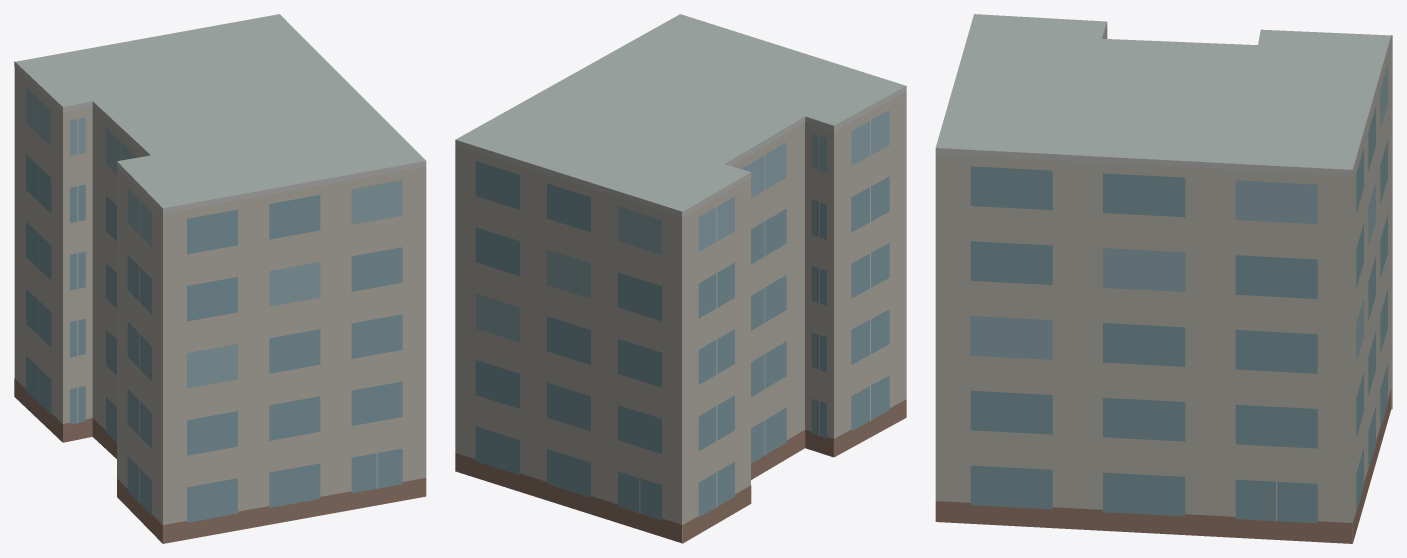
The model's file is survey-upis-32870674.glb.
The picture shows the model from 3 angles, left to right: view 1: azimuth 30°, elevation 25°; view 2: azimuth 150°, elevation 25°; view 3: azimuth 270°, elevation 25°; orthographic projection. The views are drawn at different scales.
Visible parts, largest first — view 1: survey-upis-32870674.tmp; view 2: survey-upis-32870674.tmp; view 3: survey-upis-32870674.tmp.
Boxes of the visible parts, box(x1,y1,x2,y2) form: survey-upis-32870674.tmp: box(14, 14, 426, 543); survey-upis-32870674.tmp: box(455, 14, 906, 543); survey-upis-32870674.tmp: box(935, 14, 1392, 543).
Bounding box in the file's own units: 12.97 × 14.5 × 16.06.
